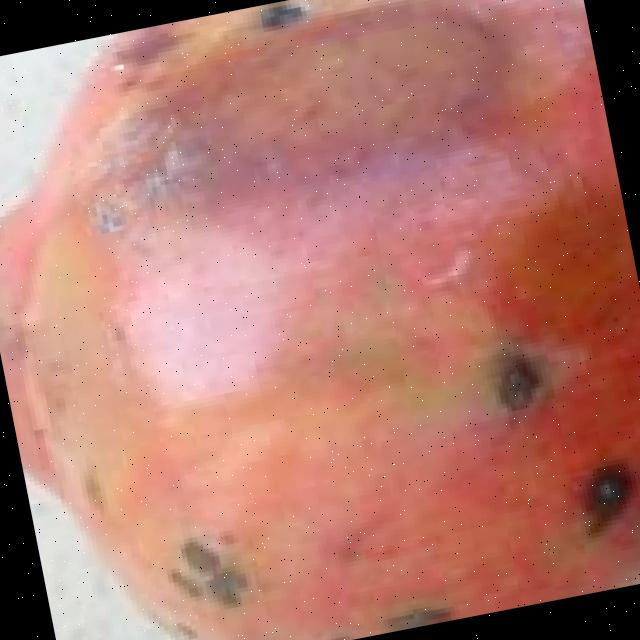Bad_Pomegranate-0-1-day: (0, 0, 640, 640)
